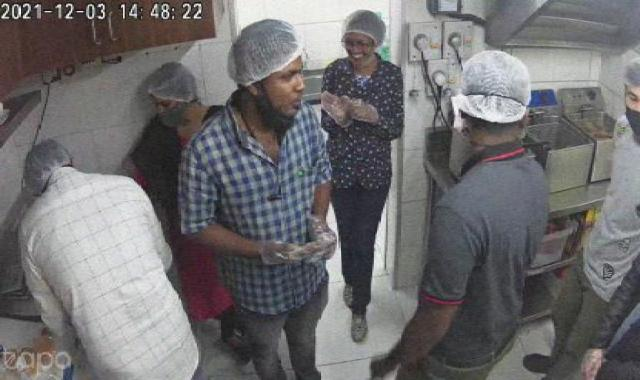hairnet: (444, 50, 538, 126), (236, 18, 311, 95), (20, 135, 78, 201), (333, 9, 396, 67), (140, 56, 217, 101)
